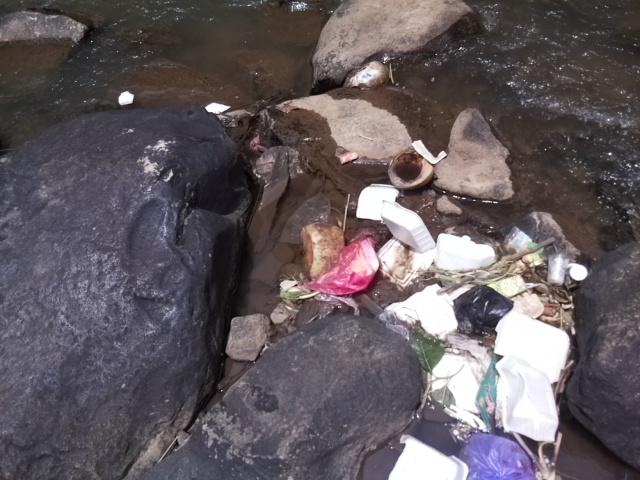Sampah_Plastik: (304, 233, 382, 295), (456, 429, 539, 480), (451, 284, 516, 338), (548, 252, 571, 286)
Sampah_Styrofoam: (493, 357, 563, 448), (354, 180, 442, 252), (491, 310, 576, 379), (390, 284, 462, 345), (384, 432, 472, 480), (429, 232, 498, 274), (413, 138, 449, 166), (202, 102, 233, 113), (116, 91, 136, 106)
